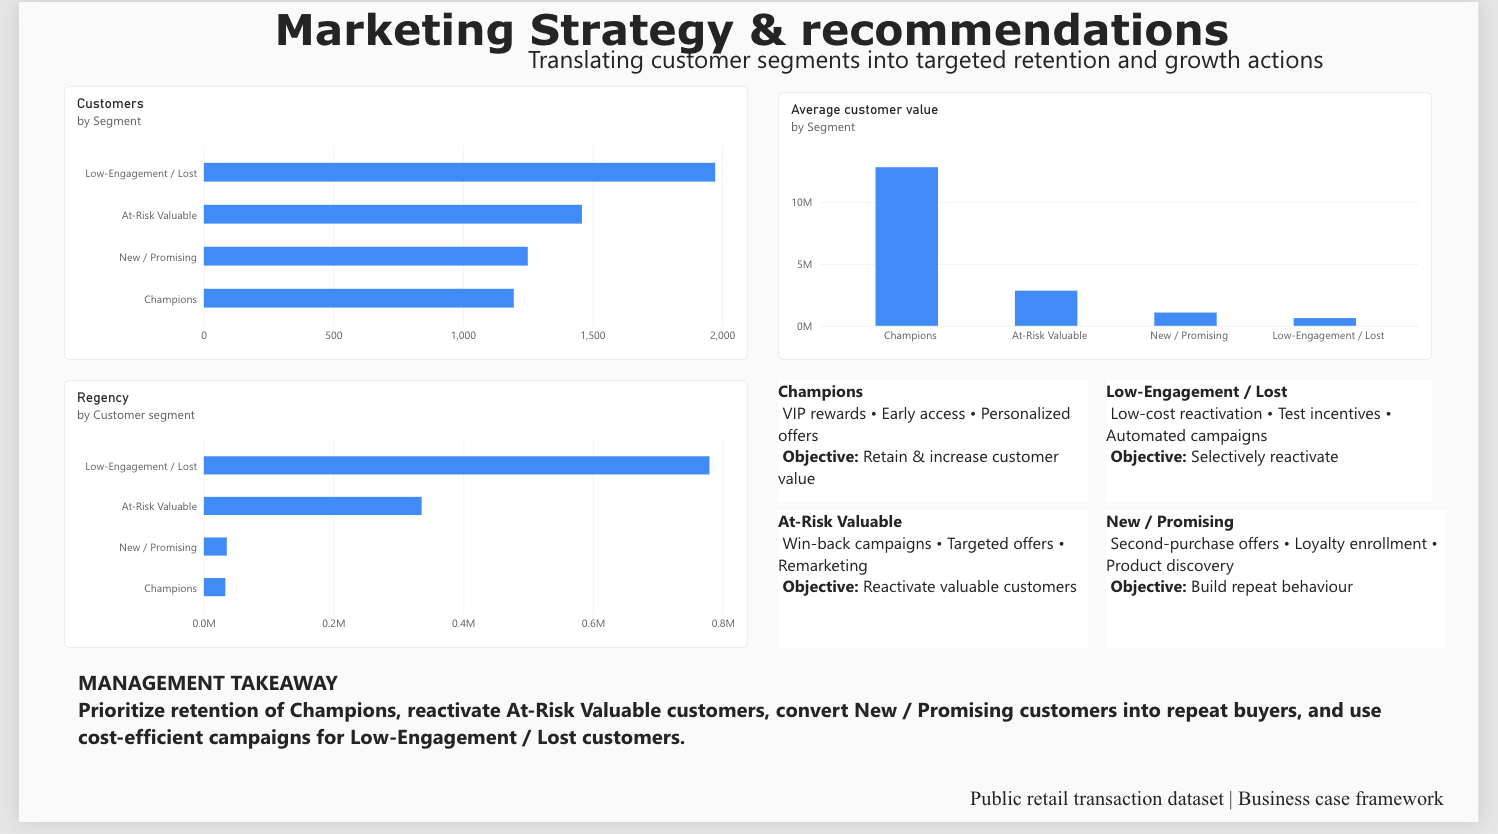

What the dashboard file says about the page in this screenshot:
{"tool":"powerbi","page":{"name":"Marketing strategy and recommendations","canvas":[1920,1080],"ordinal":3},"visuals":[{"type":"clusteredBarChart","fields":{"Category":["final_customer_segments.Segment"],"Y":["CountNonNull(final_customer_segments.Customer ID)"]},"box":[10,0,280,280],"z":0},{"type":"clusteredColumnChart","fields":{"Category":["final_customer_segments.Segment"],"Y":["Sum(final_customer_segments.Monetary)"]},"box":[10,290,280,280],"z":1000},{"type":"clusteredBarChart","fields":{"Category":["final_customer_segments.Segment"],"Y":["Sum(final_customer_segments.Recency)"]},"box":[11.6,579.5,278.1,297.5],"z":2000},{"type":"textbox","box":[1139.6,0,309.1,73.4],"z":3002},{"type":"textbox","box":[892,166,224,193],"z":3003},{"type":"textbox","box":[1140,166,309,193],"z":3004},{"type":"textbox","box":[1459,0,280,280],"z":3005}]}

Visuals, with their boxes in screenshot pixels (x1, y1, x2, y2), scaled from the page's 1920x1080 canvas onto the 1498x834 screenshot:
clusteredBarChart - final_customer_segments.Segment x CountNonNull(final_customer_segments.Customer ID): locate(8, 0, 226, 216)
clusteredColumnChart - final_customer_segments.Segment x Sum(final_customer_segments.Monetary): locate(8, 224, 226, 440)
clusteredBarChart - final_customer_segments.Segment x Sum(final_customer_segments.Recency): locate(9, 448, 226, 677)
textbox: locate(889, 0, 1130, 57)
textbox: locate(696, 128, 871, 277)
textbox: locate(889, 128, 1131, 277)
textbox: locate(1138, 0, 1357, 216)
